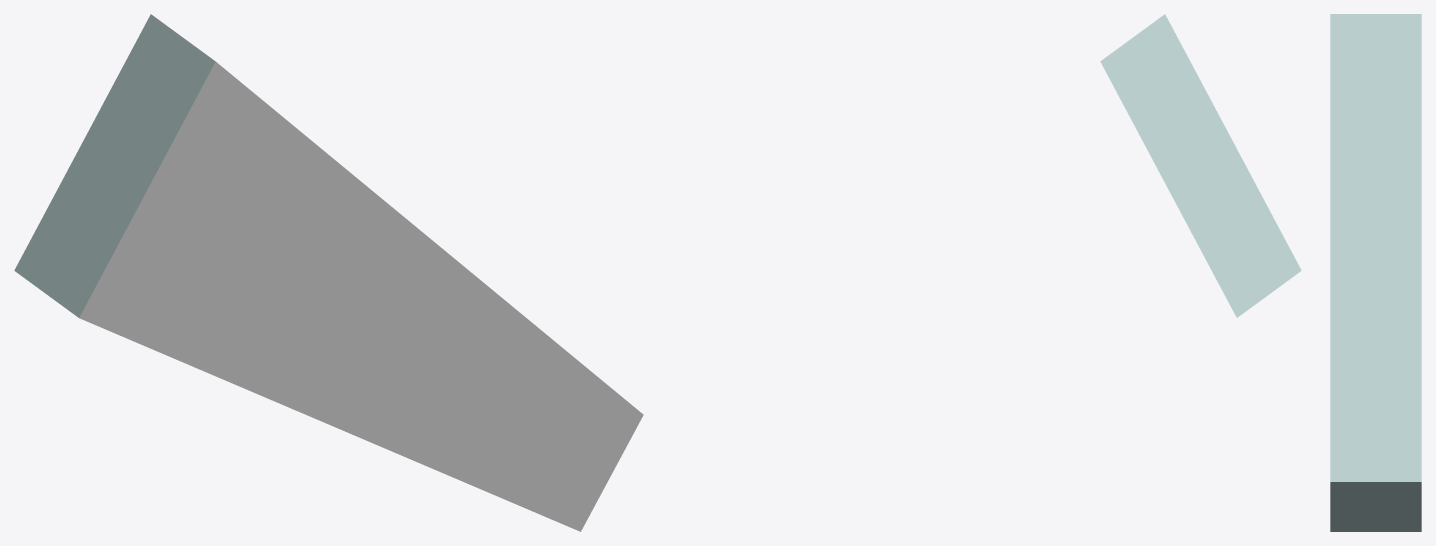
3 views of the same model, side by side, from view 1: azimuth 30°, elevation 25°; view 2: azimuth 150°, elevation 25°; view 3: azimuth 270°, elevation 25° (orthographic). The views are drawn at different scales.
Visible parts, largest first — view 1: 0_1_0_1_0_2_1_3_0; view 2: 0_1_0_1_0_2_1_3_0; view 3: 0_1_0_1_0_2_1_3_0.
Boxes of the visible parts, x1,y1,x2,y2 form: 0_1_0_1_0_2_1_3_0: (14, 14, 643, 531); 0_1_0_1_0_2_1_3_0: (1100, 14, 1301, 317); 0_1_0_1_0_2_1_3_0: (1330, 14, 1421, 531).
Bounding box in the file's own units: 15.08 × 14.28 × 3.
